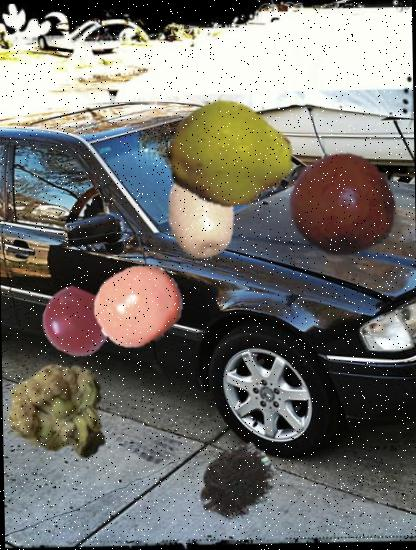Cauliflower: (5, 360, 112, 468)
Clementine: (92, 260, 184, 352)
Kumquats: (154, 167, 248, 261)
Pomegranate: (282, 146, 400, 264)
Quince: (162, 87, 296, 222)
Rambutan: (195, 442, 277, 524)
Redcurrant: (42, 287, 112, 357)
